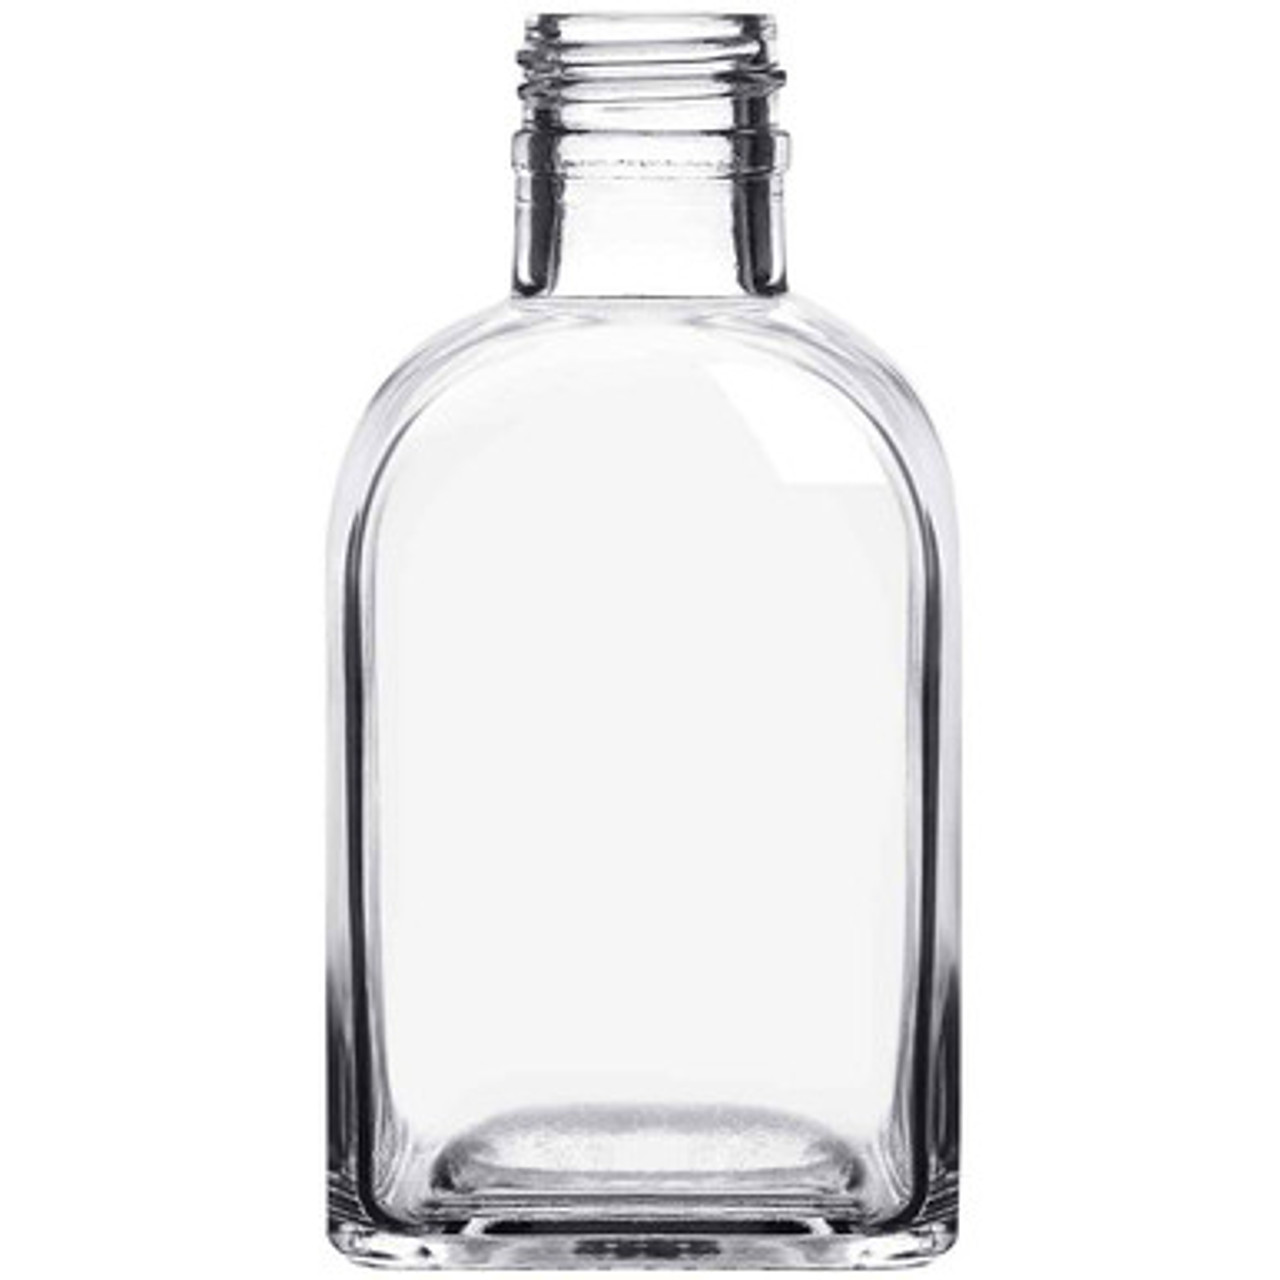glass_bottle: (298, 4, 1021, 1274)
